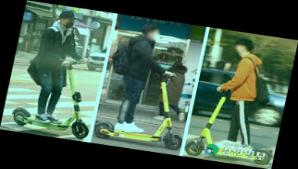nonhelmet: (184, 34, 297, 168), (93, 18, 205, 151), (8, 5, 114, 140)
